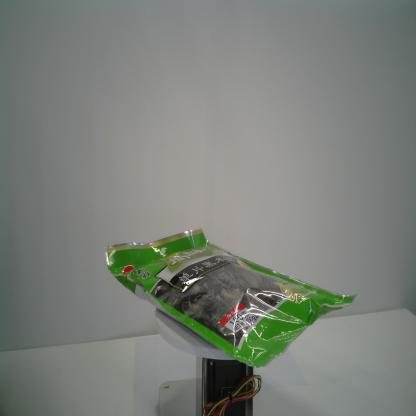Dried Food: (101, 226, 360, 369)
